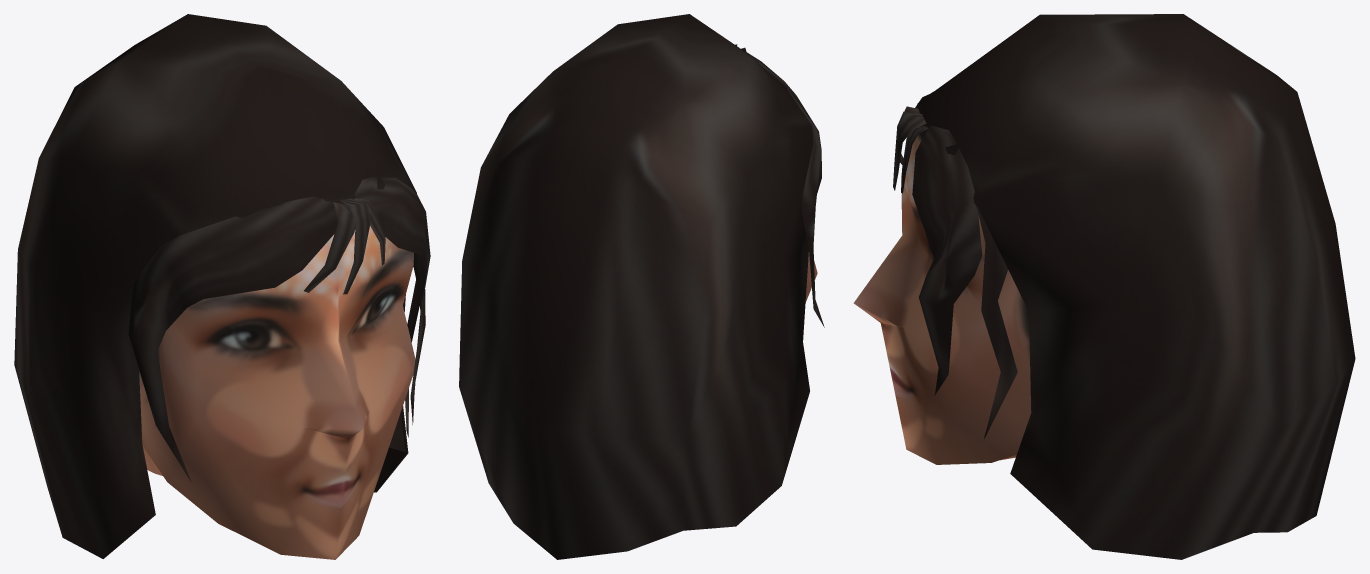
The model's file is maya_f_head_m.dae.
3 views of the same model, side by side, from view 1: azimuth 30°, elevation 25°; view 2: azimuth 150°, elevation 25°; view 3: azimuth 270°, elevation 25° (orthographic). The views are drawn at different scales.
Parts seen in each view (by area): view 1: maya_f_head_m; view 2: maya_f_head_m; view 3: maya_f_head_m.
Boxes of the visible parts, x1,y1,x2,y2 form: maya_f_head_m: (14,14,430,559); maya_f_head_m: (459,14,824,559); maya_f_head_m: (853,14,1355,559).
Bounding box in the file's own units: 0.448 × 0.6598 × 0.714.
